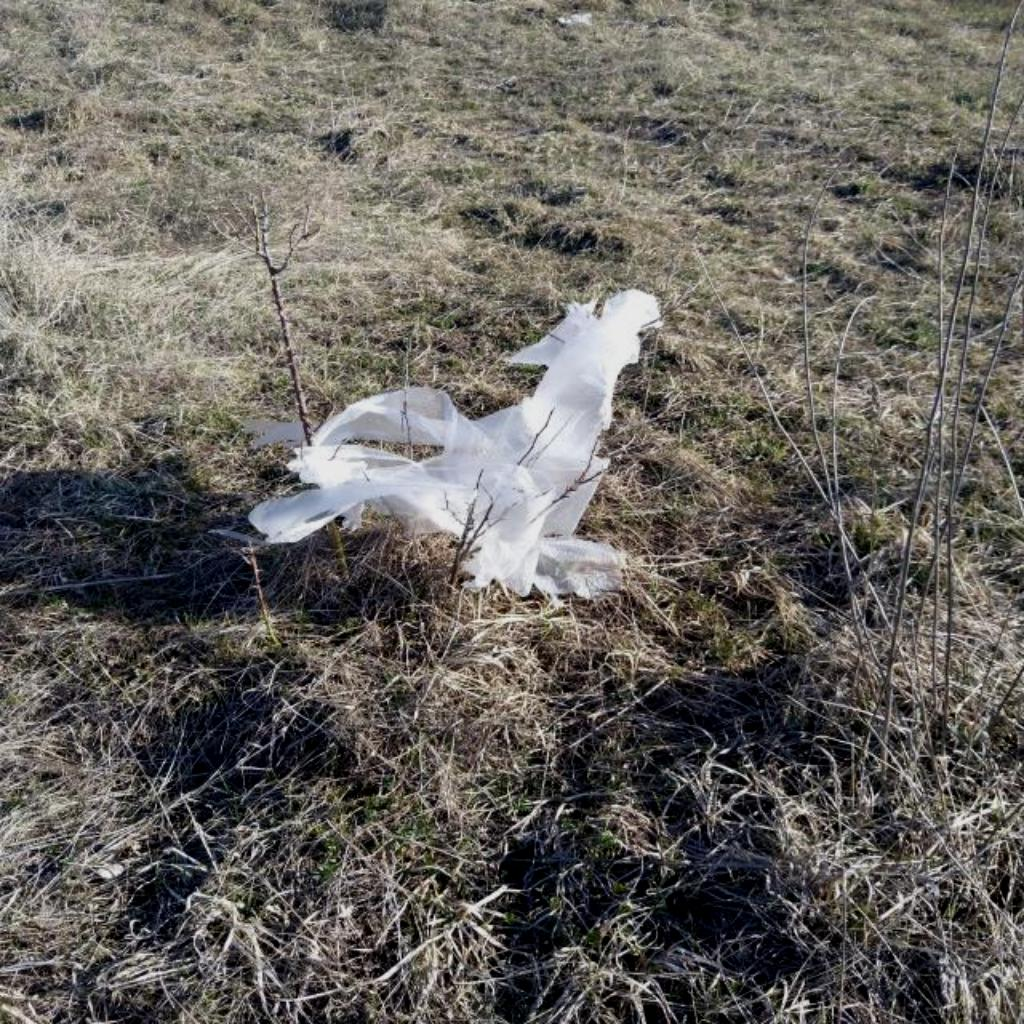garbage: (242, 282, 676, 630)
